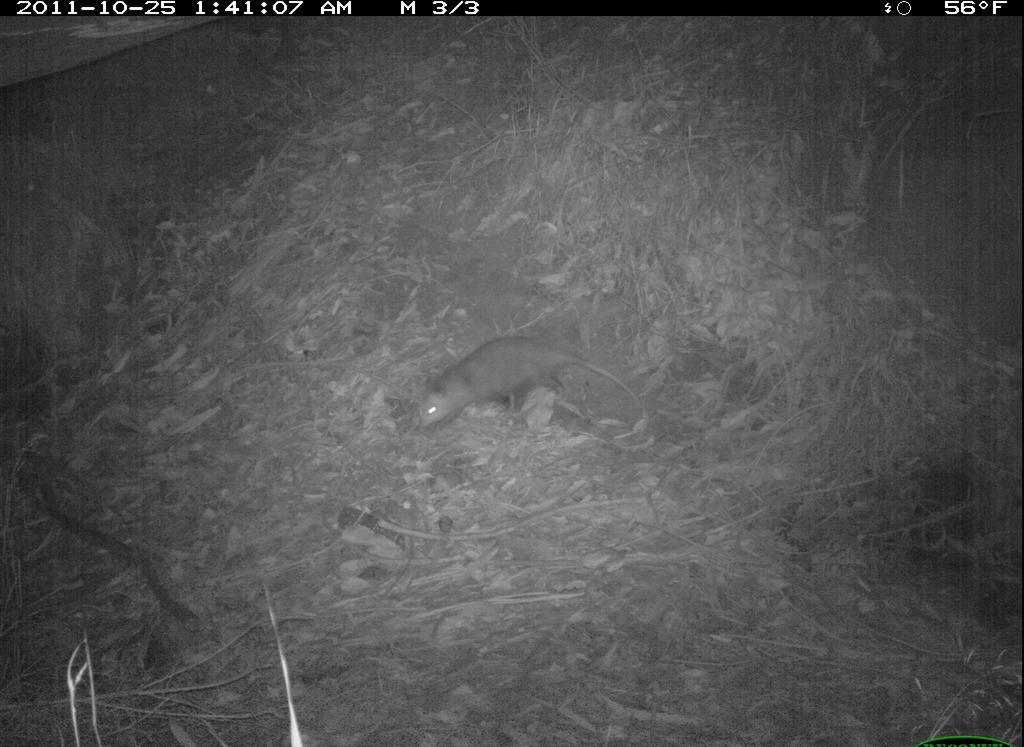opossum: (391, 329, 660, 473)
